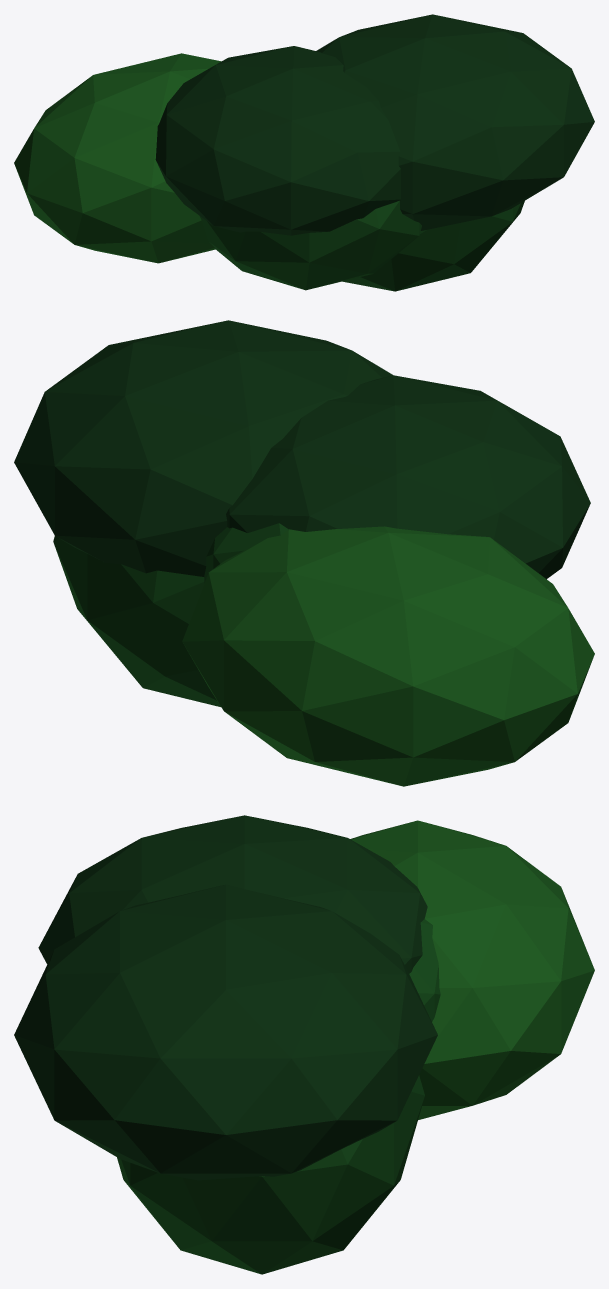
The model's file is Bush_B.obj.
3 renders of one model, top to bottom at view 1: azimuth 30°, elevation 25°; view 2: azimuth 150°, elevation 25°; view 3: azimuth 270°, elevation 25°, orthographic. The views are drawn at different scales.
Parts seen in each view (by area): view 1: BushClump0, BushClump3, BushClump4, BushClump2, BushClump1; view 2: BushClump4, BushClump0, BushClump3, BushClump1, BushClump2; view 3: BushClump0, BushClump4, BushClump3, BushClump1, BushClump2.
Boxes of the visible parts, left/top/right/bottom form: BushClump0: left=316, top=14, right=594, bottom=230; BushClump3: left=155, top=46, right=400, bottom=235; BushClump4: left=14, top=53, right=221, bottom=263; BushClump2: left=199, top=200, right=421, bottom=290; BushClump1: left=342, top=201, right=524, bottom=291; BushClump4: left=182, top=526, right=594, bottom=786; BushClump0: left=14, top=320, right=392, bottom=576; BushClump3: left=226, top=375, right=590, bottom=579; BushClump1: left=53, top=536, right=220, bottom=706; BushClump2: left=204, top=523, right=288, bottom=583; BushClump0: left=14, top=884, right=437, bottom=1180; BushClump4: left=350, top=820, right=594, bottom=1119; BushClump3: left=38, top=815, right=427, bottom=973; BushClump1: left=117, top=1075, right=424, bottom=1274; BushClump2: left=409, top=919, right=440, bottom=1021.
Size of the model in its own units: 1.65 by 0.8293 by 1.28.
